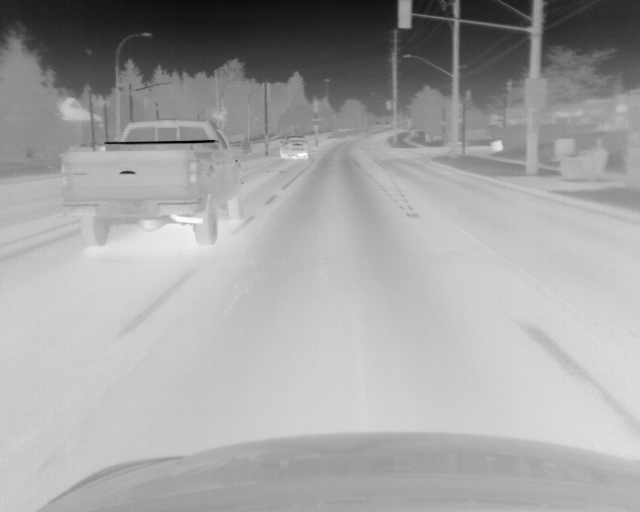car: (61, 117, 247, 245), (278, 135, 310, 160)
